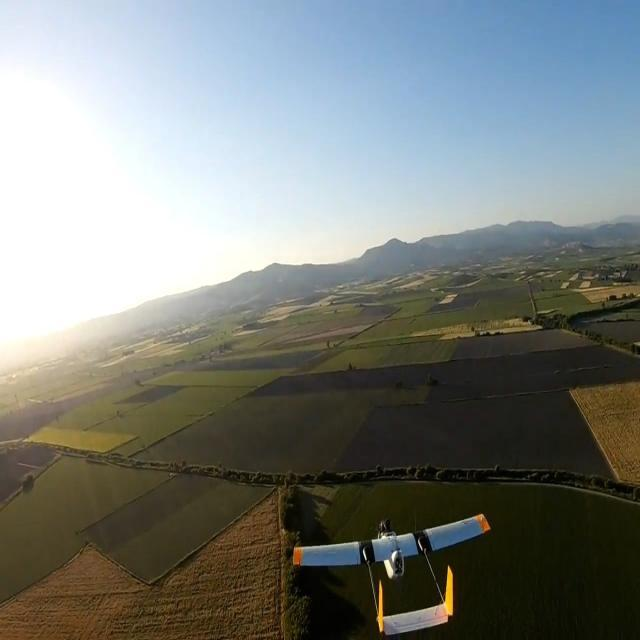iha: (283, 511, 493, 640)
